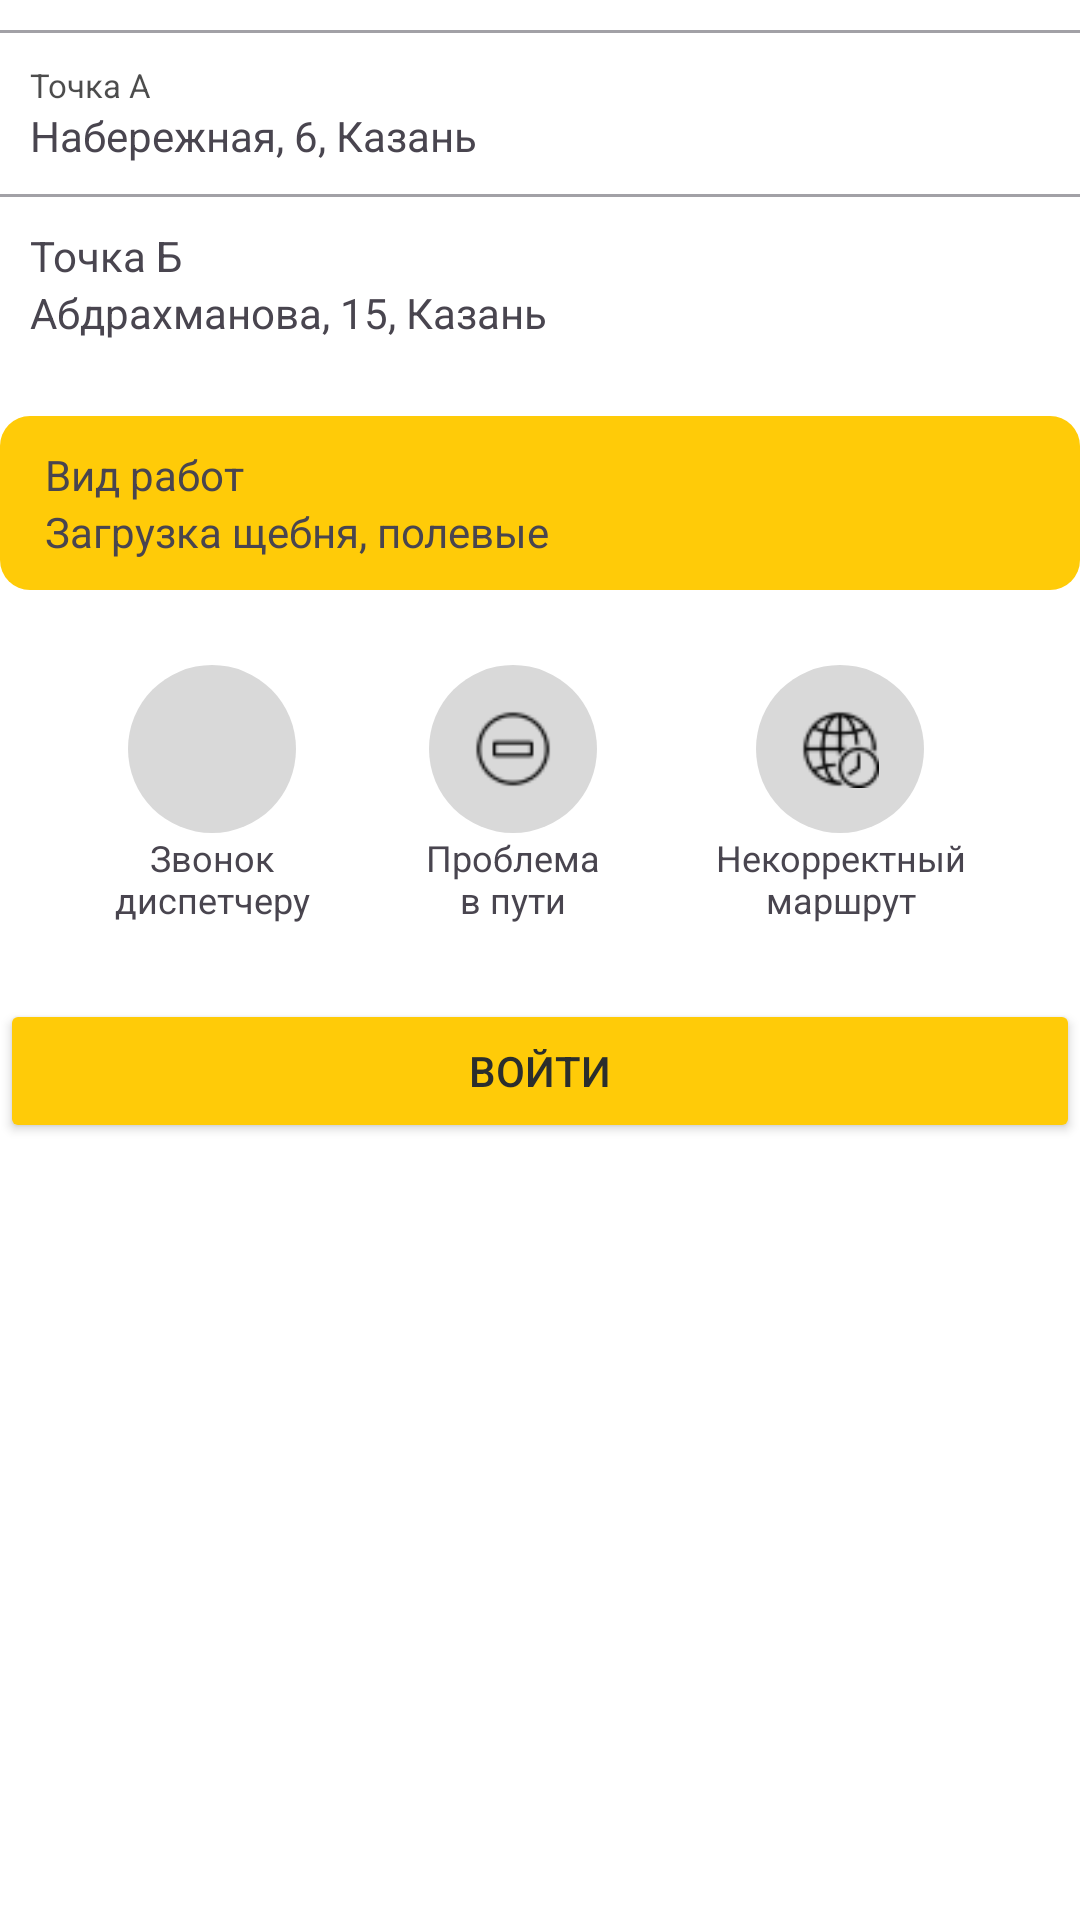

Screen size 1080px x 1920px. Icon name, then its box in pixels as (x1, y1, x2, y2):
globe: (756, 665, 924, 833)
stop: (429, 665, 597, 833)
